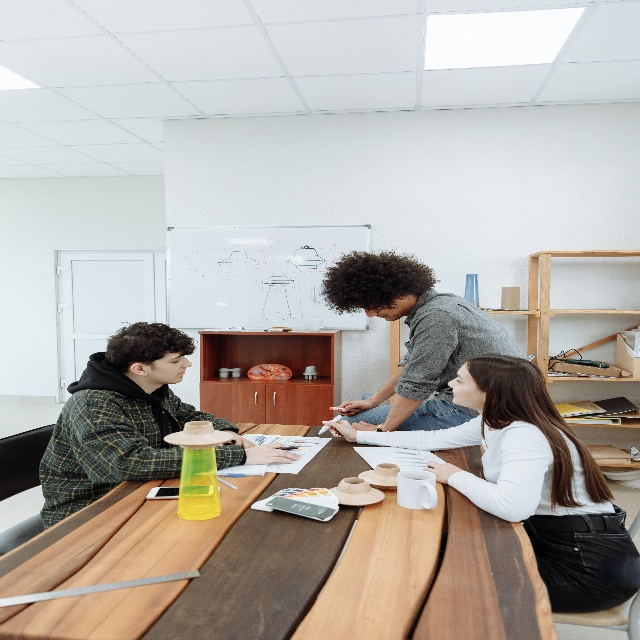Sin_guantes: (244, 443, 302, 464), (422, 460, 464, 484), (217, 428, 257, 448), (322, 420, 355, 444), (336, 398, 376, 417), (351, 420, 380, 431)
